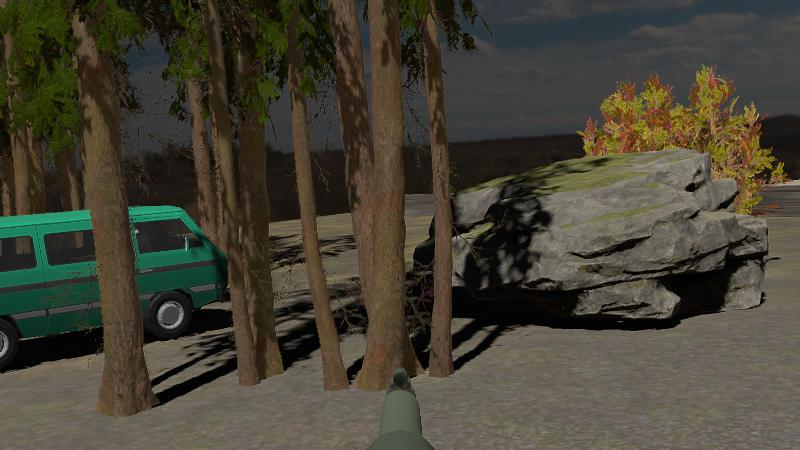car: (0, 206, 233, 374)
